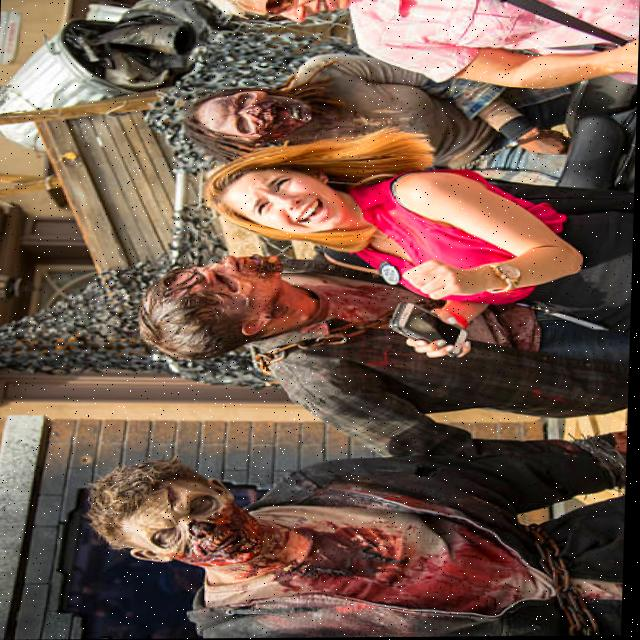Zombie: (93, 466, 301, 579), (154, 259, 283, 357), (191, 87, 318, 145)
human: (211, 175, 360, 232), (220, 0, 354, 24)
